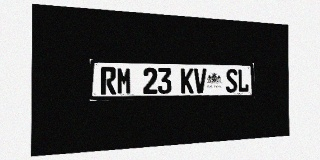2: (143, 67, 157, 94)
3: (158, 68, 171, 94)
K: (181, 68, 194, 93)
L: (238, 69, 249, 92)
M: (117, 67, 132, 94)
R: (101, 67, 116, 95)
S: (226, 69, 237, 93)
V: (194, 68, 206, 93)
